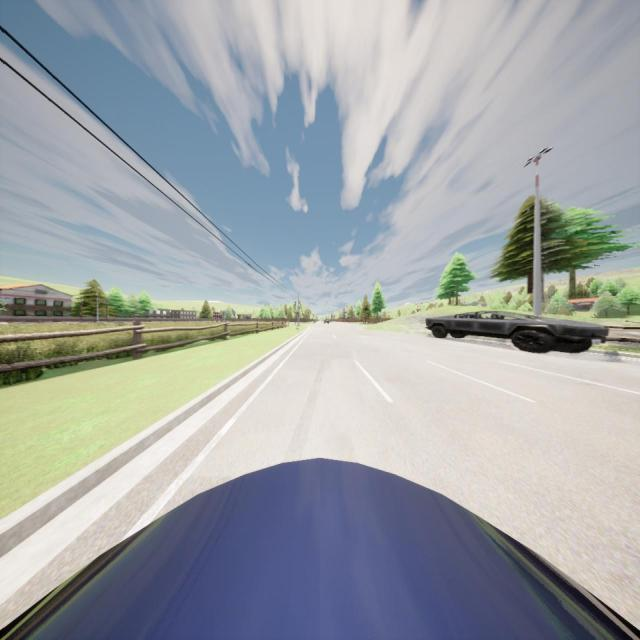Traffic_Signs: (296, 312, 300, 317)
Vehicle: (0, 457, 640, 640), (426, 311, 608, 352), (324, 318, 330, 323)
